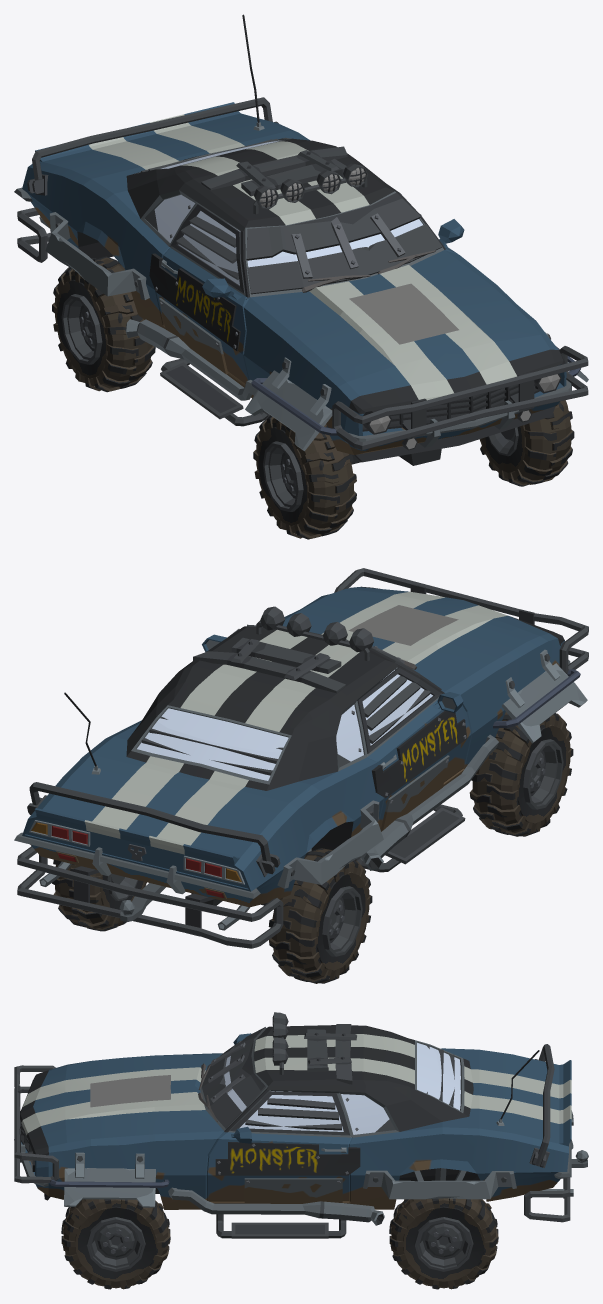
The model's file is car.fbx.
3 views of the same model, one above another, from view 1: azimuth 30°, elevation 25°; view 2: azimuth 150°, elevation 25°; view 3: azimuth 270°, elevation 25° (orthographic). The views are drawn at different scales.
Parts seen in each view (by area): view 1: SM_Veh_Muscle_01.001, SM_Veh_Muscle_Armour_01.001, SM_Veh_Muscle_Glass_Armour_01.001, SM_Veh_Muscle_Wheel_fr.001, SM_Veh_Muscle_Wheel_rr.001, SM_Veh_Attach_Bumper_12.001, SM_Veh_Muscle_Wheel_fl.001, SM_Veh_Muscle_Glass_01.001, SM_Veh_Attach_Plating_05.001, SM_Veh_Attach_Lights_02.001; view 2: SM_Veh_Muscle_01.001, SM_Veh_Muscle_Armour_01.001, SM_Veh_Muscle_Wheel_rr.001, SM_Veh_Muscle_Wheel_fr.001, SM_Veh_Muscle_Glass_01.001, SM_Veh_Muscle_Glass_Armour_01.001, SM_Veh_Attach_Plating_05.001, SM_Veh_Attach_Bumper_12.001, SM_Veh_Muscle_Wheel_rl.001, SM_Veh_Attach_Lights_02.001; view 3: SM_Veh_Muscle_01.001, SM_Veh_Muscle_Armour_01.001, SM_Veh_Muscle_Wheel_rl.001, SM_Veh_Muscle_Wheel_fl.001, SM_Veh_Muscle_Glass_Armour_01.001, SM_Veh_Muscle_Glass_01.001, SM_Veh_Attach_Plating_05.001, SM_Veh_Attach_Bumper_12.001, SM_Veh_Attach_Lights_02.001.
Boxes of the visible parts, box(x1,y1,x2,y2) form: SM_Veh_Muscle_01.001: box(14, 14, 571, 462); SM_Veh_Muscle_Armour_01.001: box(17, 97, 588, 451); SM_Veh_Muscle_Glass_Armour_01.001: box(141, 138, 442, 294); SM_Veh_Muscle_Wheel_fr.001: box(253, 414, 356, 539); SM_Veh_Muscle_Wheel_rr.001: box(52, 256, 155, 392); SM_Veh_Attach_Bumper_12.001: box(332, 346, 588, 450); SM_Veh_Muscle_Wheel_fl.001: box(479, 400, 574, 486); SM_Veh_Muscle_Glass_01.001: box(154, 140, 422, 285); SM_Veh_Attach_Plating_05.001: box(201, 146, 347, 196); SM_Veh_Attach_Lights_02.001: box(253, 163, 367, 214); SM_Veh_Muscle_01.001: box(14, 586, 570, 930); SM_Veh_Muscle_Armour_01.001: box(17, 649, 587, 948); SM_Veh_Muscle_Wheel_rr.001: box(268, 848, 372, 983); SM_Veh_Muscle_Wheel_fr.001: box(469, 712, 573, 836); SM_Veh_Muscle_Glass_01.001: box(137, 669, 432, 780); SM_Veh_Muscle_Glass_Armour_01.001: box(141, 624, 441, 775); SM_Veh_Attach_Plating_05.001: box(193, 637, 345, 693); SM_Veh_Attach_Bumper_12.001: box(334, 568, 588, 673); SM_Veh_Muscle_Wheel_rl.001: box(52, 859, 146, 931); SM_Veh_Attach_Lights_02.001: box(256, 606, 373, 660); SM_Veh_Muscle_01.001: box(14, 1025, 573, 1209); SM_Veh_Muscle_Armour_01.001: box(50, 1044, 588, 1238); SM_Veh_Muscle_Wheel_rl.001: box(389, 1198, 498, 1289); SM_Veh_Muscle_Wheel_fl.001: box(61, 1199, 170, 1289); SM_Veh_Muscle_Glass_Armour_01.001: box(202, 1027, 454, 1135); SM_Veh_Muscle_Glass_01.001: box(224, 1042, 460, 1134); SM_Veh_Attach_Plating_05.001: box(304, 1024, 356, 1084); SM_Veh_Attach_Bumper_12.001: box(14, 1065, 58, 1183); SM_Veh_Attach_Lights_02.001: box(272, 1012, 288, 1074).
Size of the model in its own units: 276 by 253 by 580.
